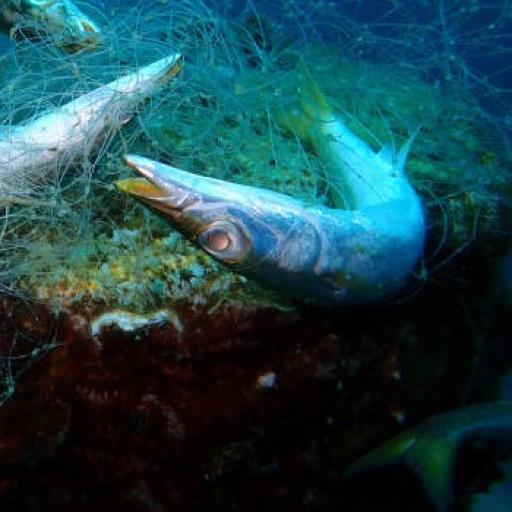net: (0, 0, 483, 315)
